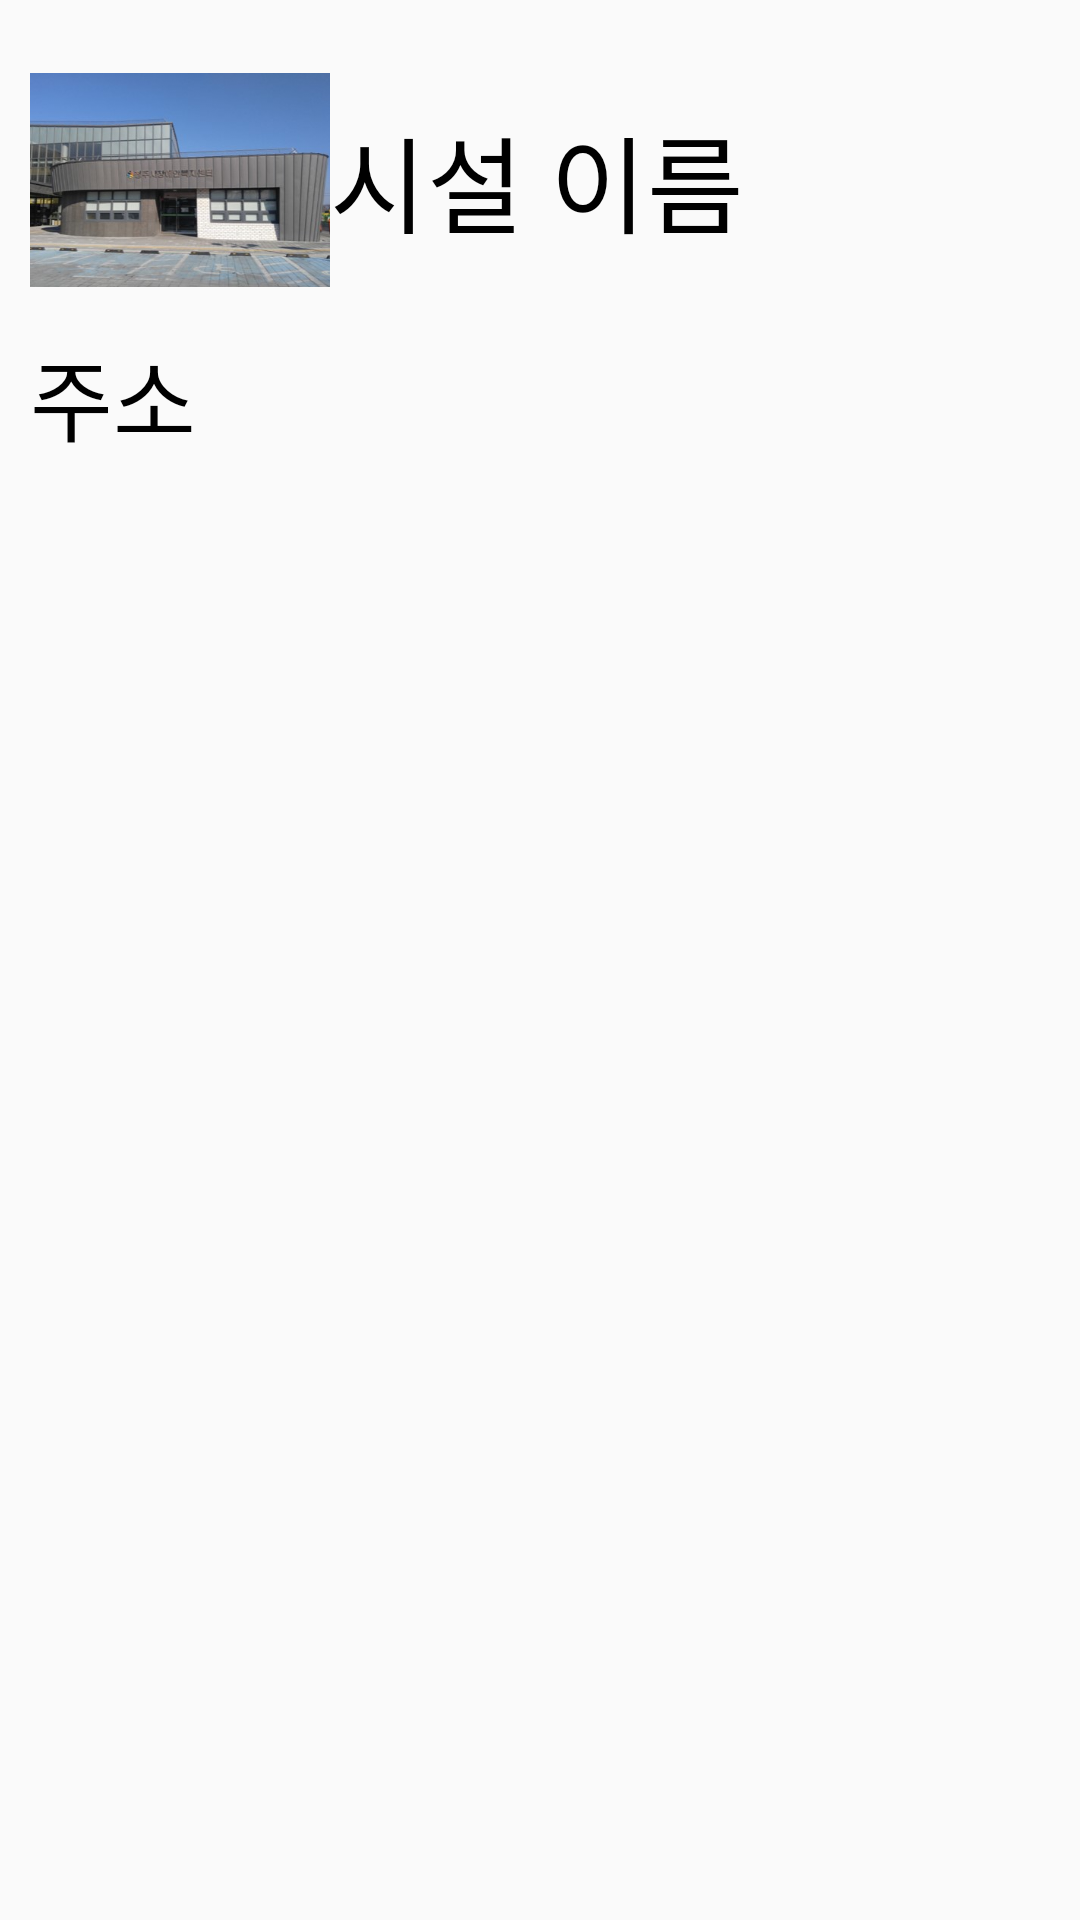

Where to tap for icons on this 1080w x 1920h app screen, as (x=x, y=y):
listimage: (x=180, y=180)
